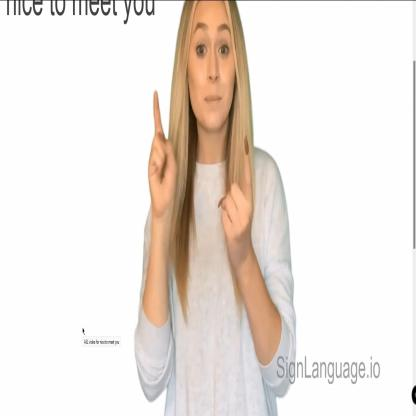NiceToMeetYou: (148, 93, 252, 265)
